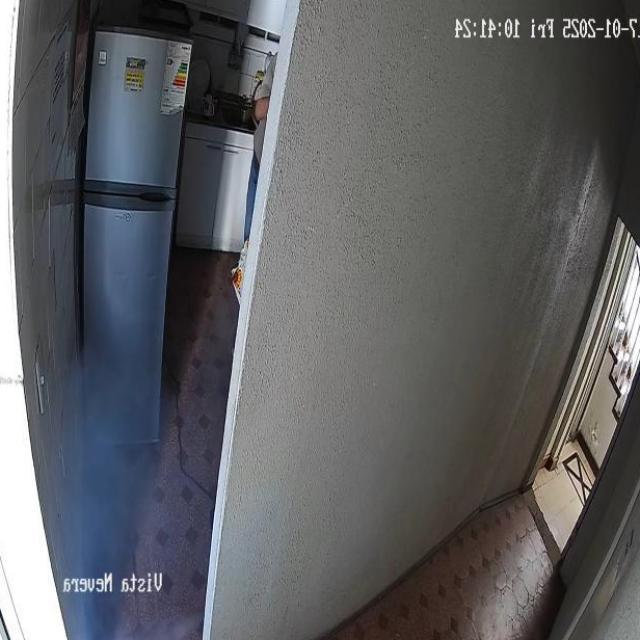fire: (47, 331, 210, 640)
